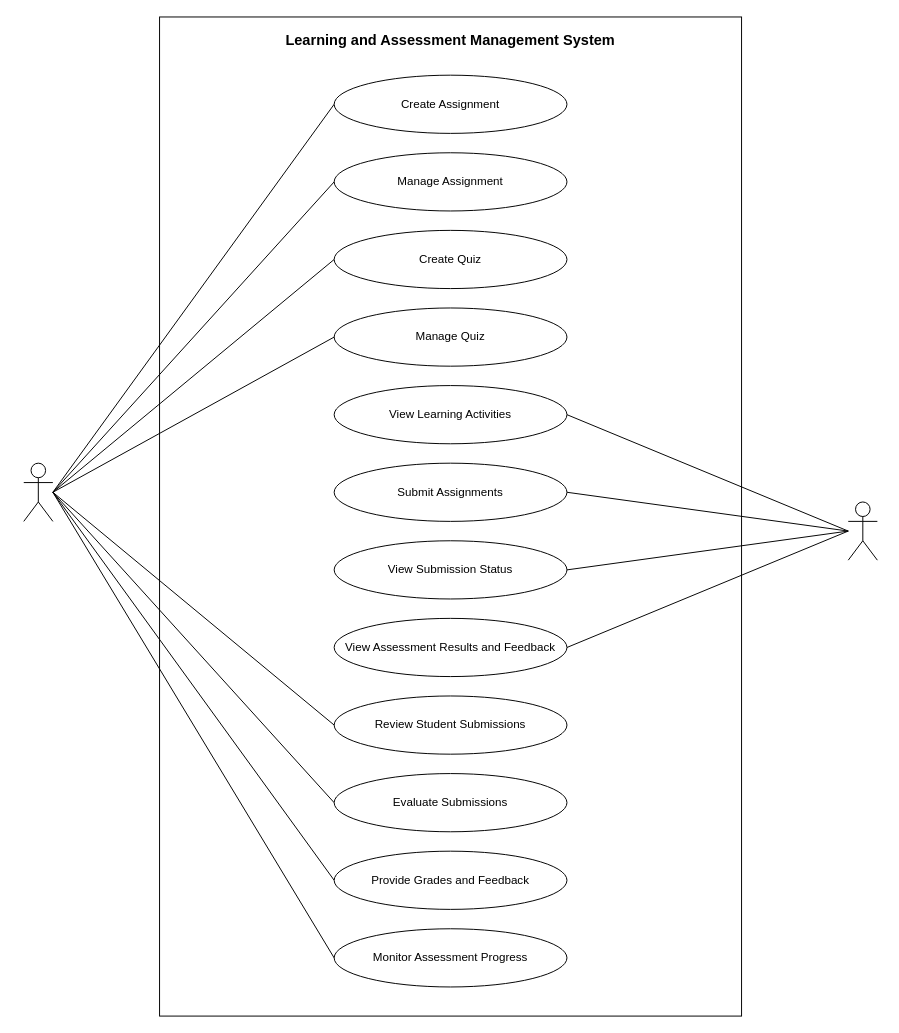
This 899x1033 diagram has some shape labels left out. Each missing label, with the box of its shape:
Lecturer: (23, 462, 53, 521)
Student: (847, 501, 877, 560)
